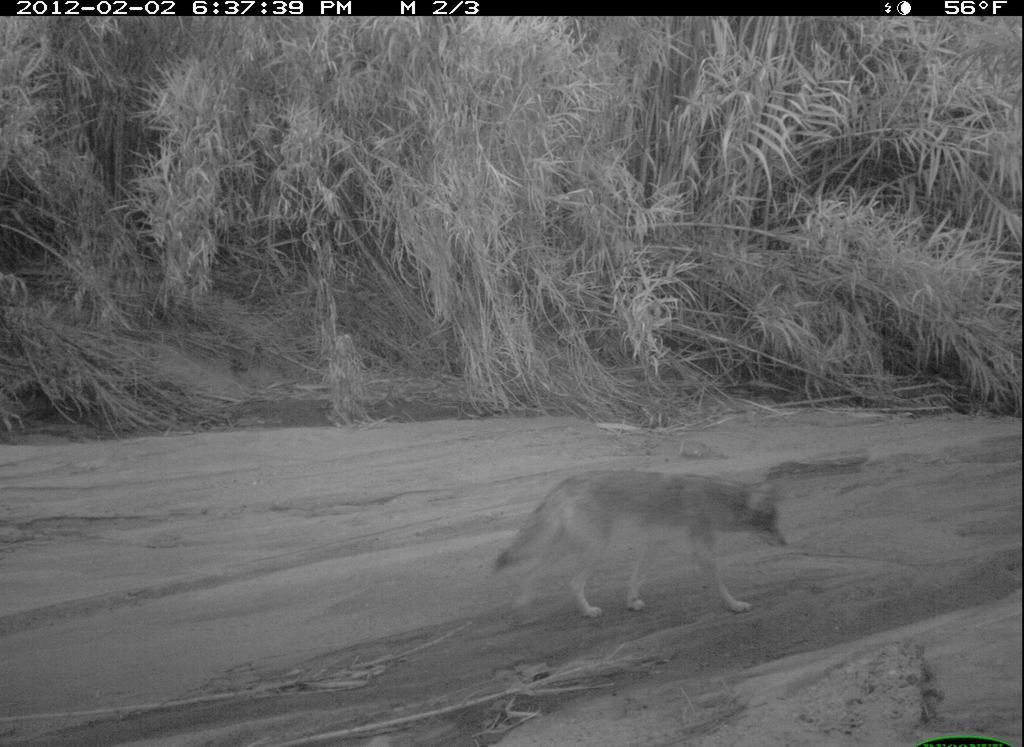coyote: (481, 449, 812, 621)
